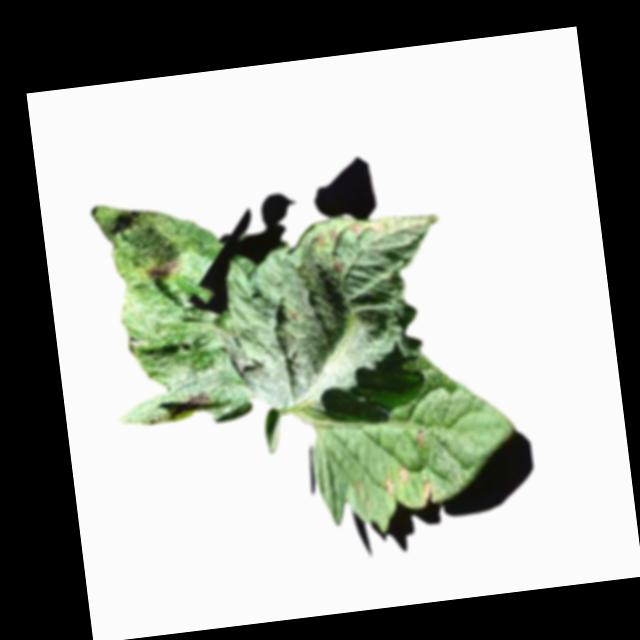Early_blight: (140, 255, 182, 279), (186, 386, 216, 408), (418, 478, 436, 507), (414, 428, 429, 449), (380, 477, 396, 494), (332, 258, 347, 274), (396, 465, 408, 485), (313, 229, 327, 246), (349, 221, 362, 236), (327, 226, 339, 242)
